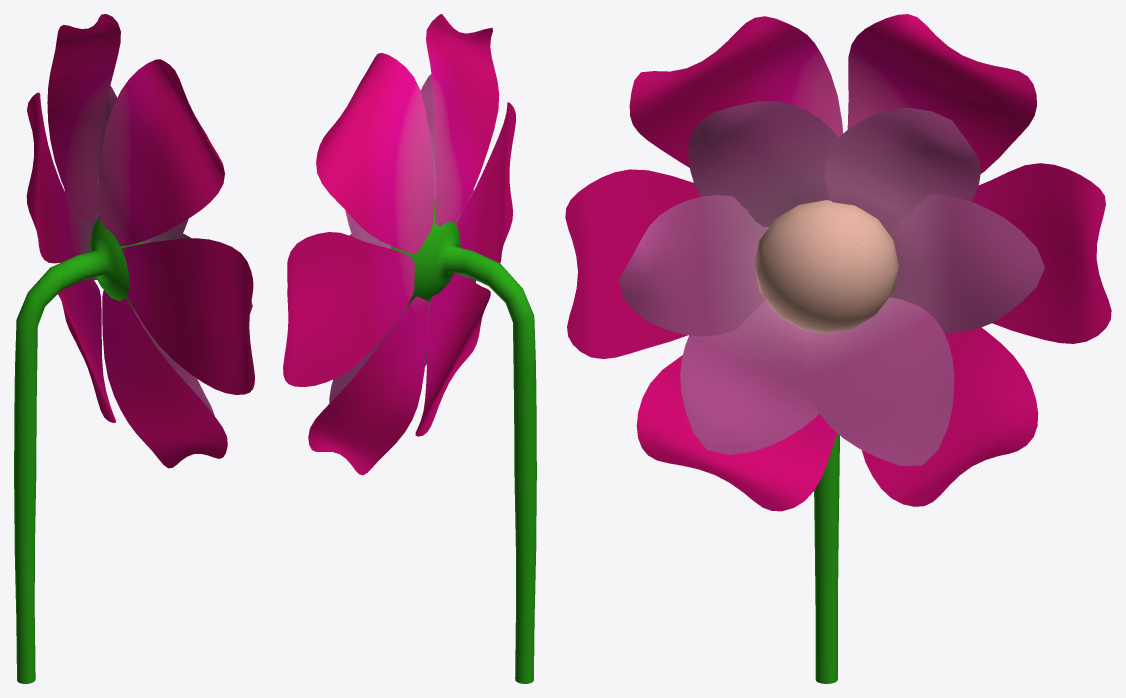
File: Flower_4.fbx
The picture shows the model from 3 angles, left to right: view 1: azimuth 30°, elevation 25°; view 2: azimuth 150°, elevation 25°; view 3: azimuth 270°, elevation 25°; orthographic projection. The views are drawn at different scales.
Visible parts, largest first — view 1: Double petal; view 2: Double petal; view 3: Double petal.
Part boxes in pixels (bbox=[...]): Double petal: bbox=[14, 14, 254, 683]; Double petal: bbox=[283, 14, 536, 683]; Double petal: bbox=[565, 14, 1111, 683].
Size of the model in its own units: 141 by 511 by 345.
4 materials, 4 textured.
